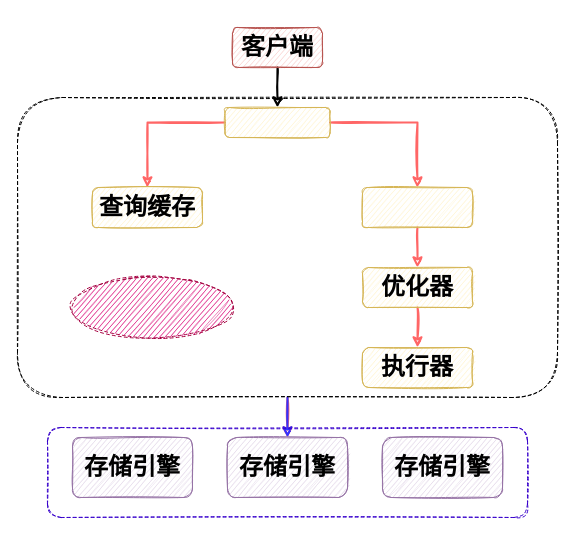
This 575x535 diagram has some shape labels left out. Here are the shapes that lost their labels. From the top down, the centre of each, then its label:
[277,122]: 连接器
[417,207]: 分析器
[152,307]: Server 层
